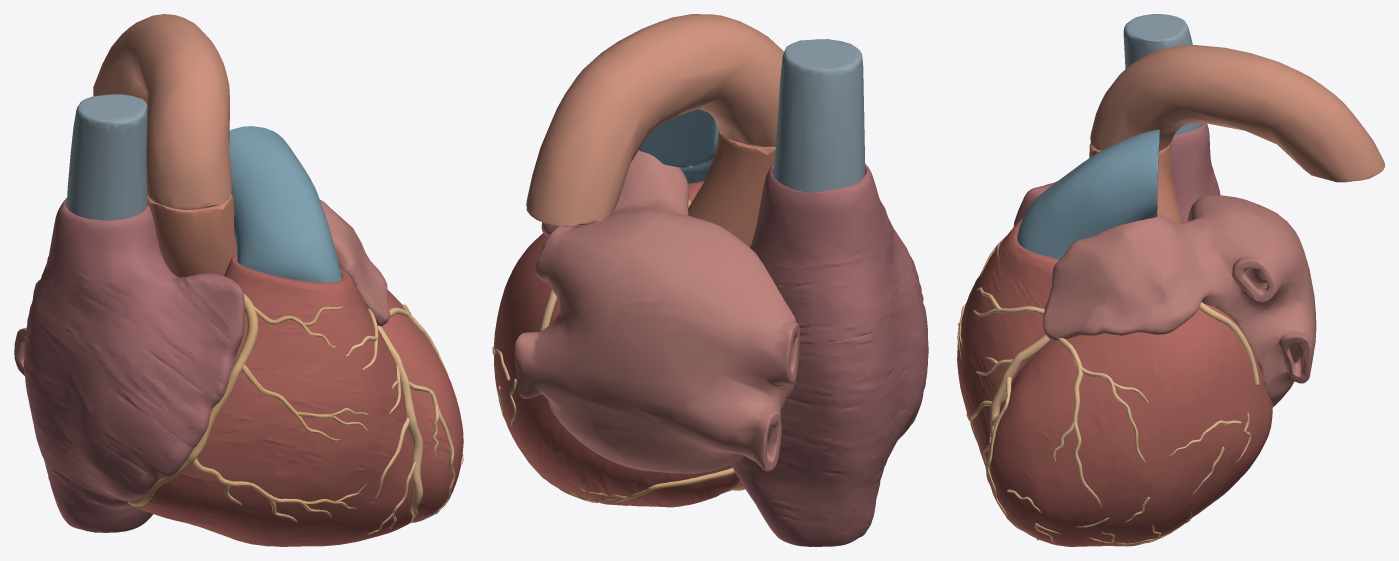
File: anatomy-heart.glb
The picture shows the model from 3 angles, left to right: view 1: azimuth 30°, elevation 25°; view 2: azimuth 150°, elevation 25°; view 3: azimuth 270°, elevation 25°; orthographic projection. The views are drawn at different scales.
Visible parts, largest first — view 1: ventricular-wall, right-atrium, aortic-arch, pulmonary-trunk, superior-vena-cava, ascending-aorta, right-coronary, left-coronary, left-atrium; view 2: left-atrium, right-atrium, aortic-arch, ventricular-wall, superior-vena-cava, ascending-aorta, pulmonary-trunk, right-coronary, left-coronary; view 3: ventricular-wall, left-atrium, aortic-arch, pulmonary-trunk, left-coronary, right-atrium, superior-vena-cava, ascending-aorta, right-coronary.
Part boxes in pixels (x1,y1,x2,y2): ventricular-wall: (136,254,463,546); right-atrium: (23,198,244,532); aortic-arch: (93,14,231,209); pulmonary-trunk: (229,126,342,282); superior-vena-cava: (66,94,147,220); ascending-aorta: (147,193,236,277); right-coronary: (127,293,424,522); left-coronary: (346,304,463,535); left-atrium: (14,200,389,375); left-atrium: (514,150,799,473); right-atrium: (731,163,928,546); aortic-arch: (526,14,783,226); ventricular-wall: (494,181,742,507); superior-vena-cava: (773,39,865,192); ascending-aorta: (688,131,775,247); pulmonary-trunk: (639,109,719,183); right-coronary: (527,460,744,503); left-coronary: (492,200,690,426); ventricular-wall: (957,218,1272,546); left-atrium: (1043,195,1316,407); aortic-arch: (1090,45,1384,182); pulmonary-trunk: (1017,129,1159,259); left-coronary: (970,287,1259,542); right-atrium: (1013,123,1220,226); superior-vena-cava: (1123,14,1203,134); ascending-aorta: (1089,143,1182,223); right-coronary: (957,236,1192,546).
Size of the model in its own units: 2.31 by 2.86 by 2.54.
